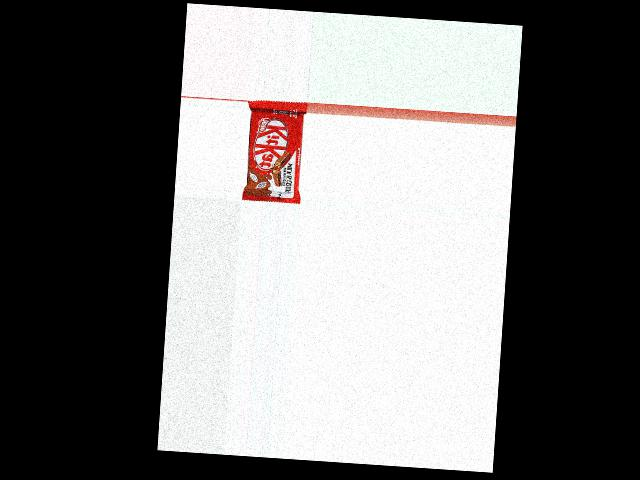chocolate: (241, 99, 307, 205)
